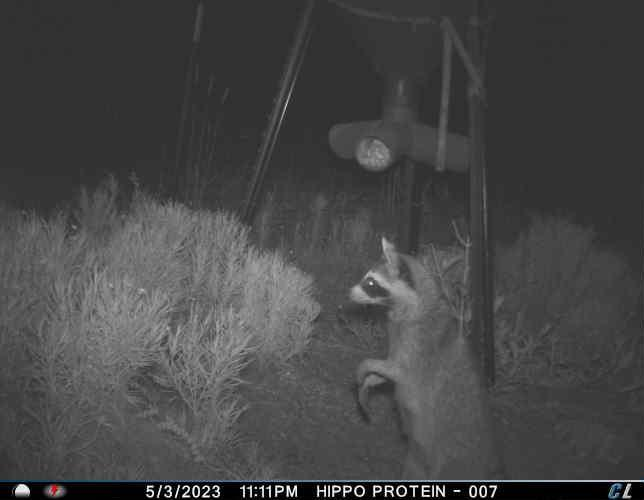Raccoon: (343, 228, 512, 483)
